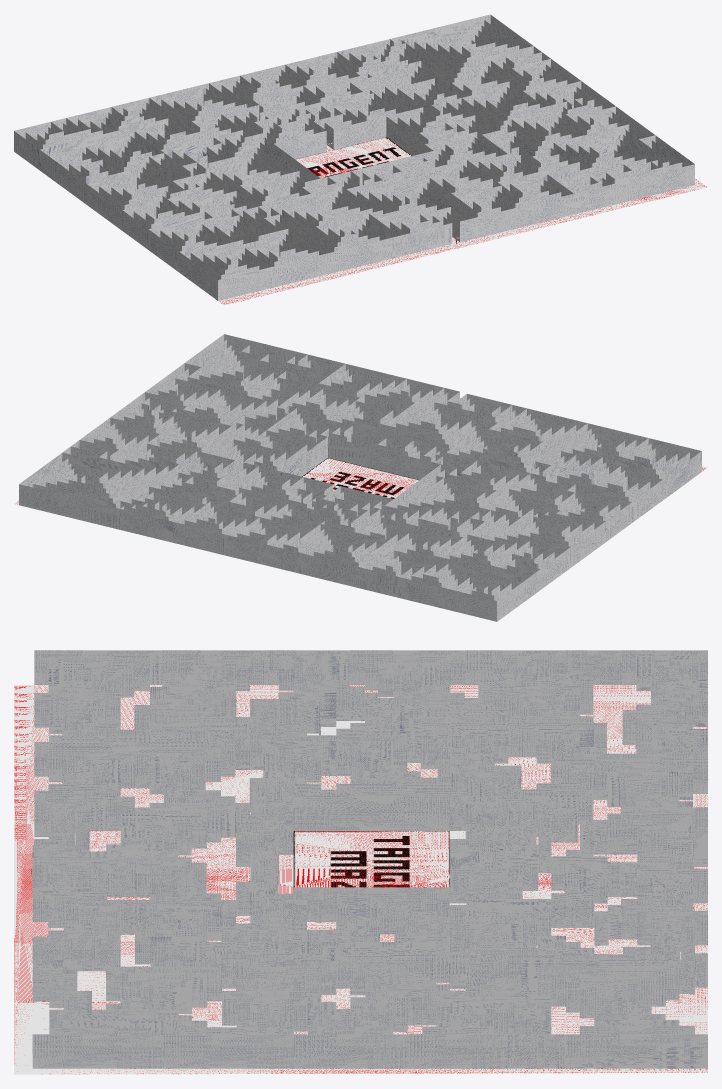
3 renders of one model, top to bottom at view 1: azimuth 30°, elevation 25°; view 2: azimuth 150°, elevation 25°; view 3: azimuth 270°, elevation 25°, orthographic. The views are drawn at different scales.
Visible parts, largest first — view 1: ske2B8 (×35); view 2: ske2B8 (×34); view 3: ske2B8 (×36).
Part boxes in pixels (box(x1,y1,x2,y2)): ske2B8 (×35): box(14, 14, 707, 305); ske2B8 (×34): box(19, 334, 701, 621); ske2B8 (×36): box(14, 650, 707, 1074).
Bounding box in the file's own units: 5804 × 4367 × 240.
16 materials, 3 textured.
